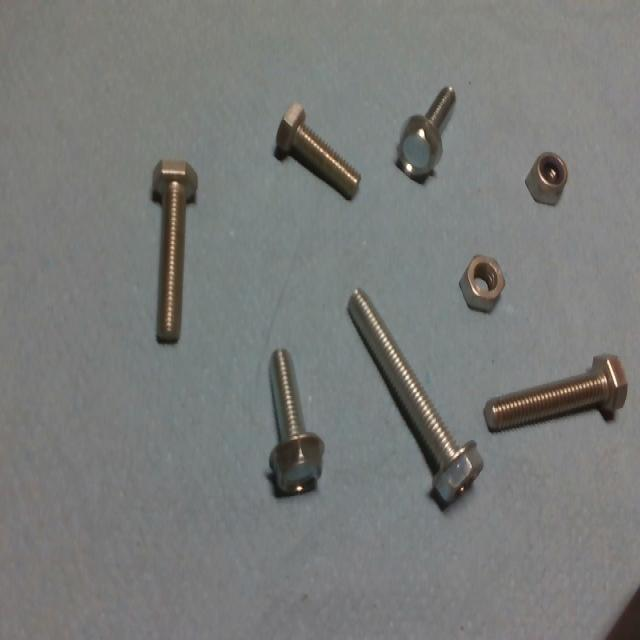Bolt: (348, 288, 482, 507), (484, 357, 626, 436), (150, 160, 198, 347), (273, 104, 360, 200), (269, 349, 324, 496), (393, 88, 456, 185)
Nut: (458, 255, 506, 315), (525, 152, 567, 203)
